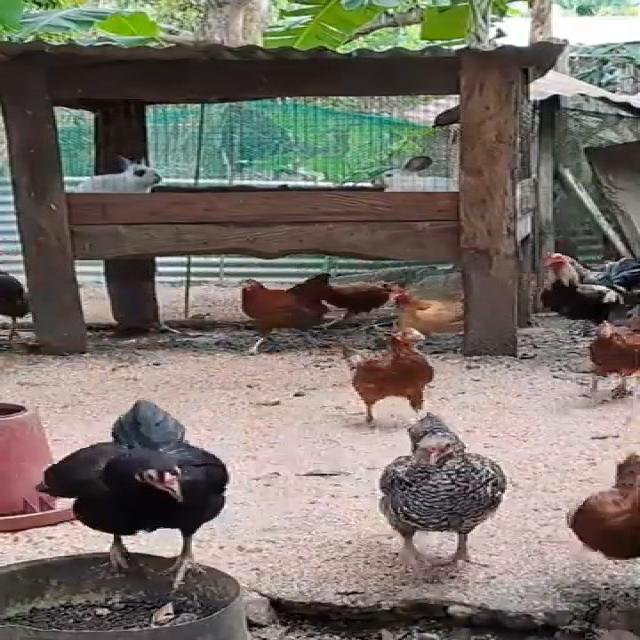running: (26, 392, 249, 586), (352, 415, 521, 568), (308, 326, 458, 417)
